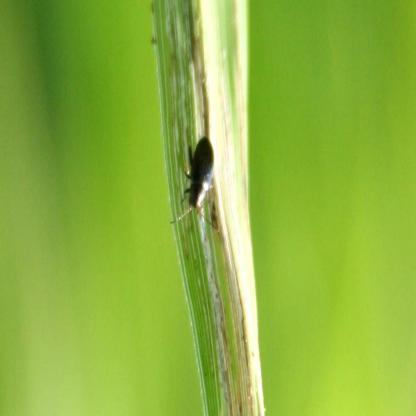rice-bug: (181, 134, 220, 216)
